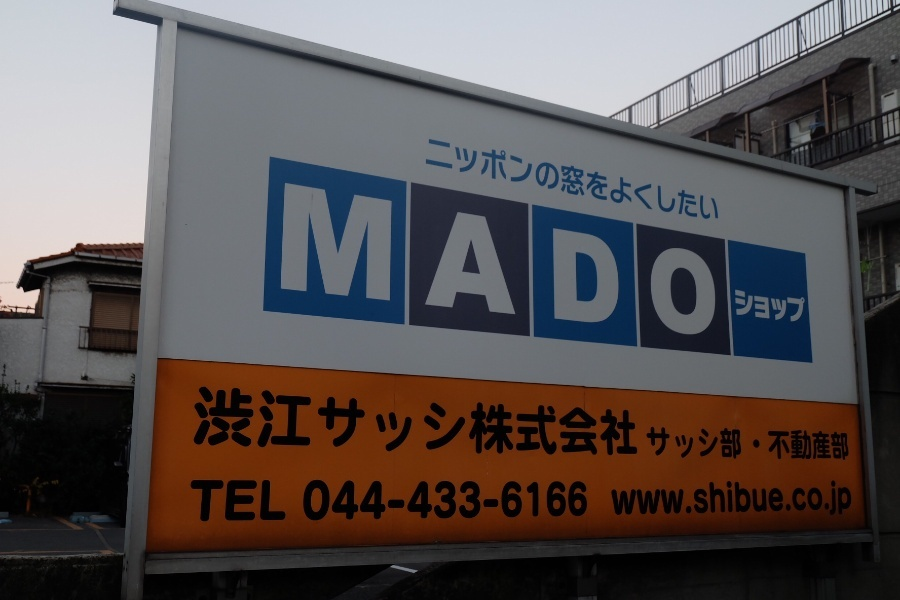text: (289, 184, 304, 337), (305, 184, 320, 337), (321, 184, 336, 337), (337, 184, 352, 337), (353, 184, 368, 337), (369, 184, 384, 337), (385, 184, 400, 337), (401, 184, 416, 337), (417, 184, 432, 337), (433, 184, 448, 337), (449, 184, 464, 337), (465, 184, 480, 337), (481, 184, 496, 337), (497, 184, 512, 337), (513, 184, 528, 337), (529, 184, 544, 337), (545, 184, 560, 337), (561, 184, 576, 337), (577, 184, 592, 337), (593, 184, 608, 337), (609, 184, 624, 337), (625, 184, 640, 337), (641, 184, 656, 337), (657, 184, 672, 337), (673, 184, 688, 337), (689, 184, 704, 337), (705, 184, 716, 337), (433, 135, 448, 226), (449, 135, 464, 226), (465, 135, 480, 226), (481, 135, 496, 226), (497, 135, 512, 226), (513, 135, 528, 226), (529, 135, 544, 226), (545, 135, 560, 226), (561, 135, 576, 226), (577, 135, 592, 226), (593, 135, 608, 226), (609, 135, 624, 226), (625, 135, 640, 226), (641, 135, 656, 226), (657, 135, 672, 226), (673, 135, 688, 226), (689, 135, 704, 226), (705, 135, 719, 226), (209, 384, 224, 457), (225, 384, 240, 457), (241, 384, 256, 457), (257, 384, 272, 457), (273, 384, 288, 457), (289, 384, 304, 457), (305, 384, 320, 457), (321, 384, 336, 457), (337, 384, 352, 457), (353, 384, 368, 457), (369, 384, 384, 457), (385, 384, 400, 457), (401, 384, 416, 457), (417, 384, 432, 457), (433, 384, 448, 457), (449, 384, 464, 457), (465, 384, 480, 457), (481, 384, 496, 457), (497, 384, 512, 457), (513, 384, 528, 457), (529, 384, 544, 457), (545, 384, 560, 457), (561, 384, 576, 457), (577, 384, 592, 457), (593, 384, 608, 457), (609, 384, 624, 457), (625, 384, 638, 457), (196, 384, 208, 457), (193, 481, 208, 523), (209, 481, 224, 523), (225, 481, 240, 523), (241, 481, 256, 523), (257, 481, 272, 523), (305, 480, 320, 521), (321, 480, 336, 521), (337, 480, 352, 521), (353, 480, 368, 521), (369, 480, 384, 521), (385, 480, 400, 521), (401, 480, 416, 521), (417, 480, 432, 521), (433, 480, 448, 521), (449, 480, 464, 521), (465, 480, 480, 521), (481, 480, 496, 521), (497, 480, 512, 521), (513, 480, 528, 521), (529, 480, 544, 521), (545, 480, 560, 521), (561, 480, 576, 521), (273, 481, 287, 523), (625, 481, 640, 517), (641, 481, 656, 517), (657, 481, 672, 517), (673, 481, 688, 517), (689, 481, 704, 517), (705, 481, 720, 517), (721, 481, 736, 517), (737, 481, 752, 517), (753, 481, 768, 517), (769, 481, 784, 517), (785, 481, 800, 517), (801, 481, 816, 517), (817, 481, 832, 517), (833, 481, 848, 517), (657, 425, 672, 460), (673, 425, 688, 460), (689, 425, 704, 460), (705, 425, 720, 460), (721, 425, 736, 460), (737, 425, 752, 460), (737, 290, 752, 323), (753, 290, 768, 323), (769, 290, 784, 323), (785, 290, 800, 323), (833, 430, 849, 460), (611, 481, 624, 517), (285, 184, 288, 337), (577, 480, 588, 521), (769, 430, 784, 460), (785, 430, 800, 460), (801, 430, 816, 460), (817, 430, 832, 460), (646, 425, 656, 460), (753, 425, 761, 460), (430, 135, 432, 226), (801, 290, 805, 323), (849, 481, 852, 517), (191, 481, 192, 523), (735, 290, 736, 323)
